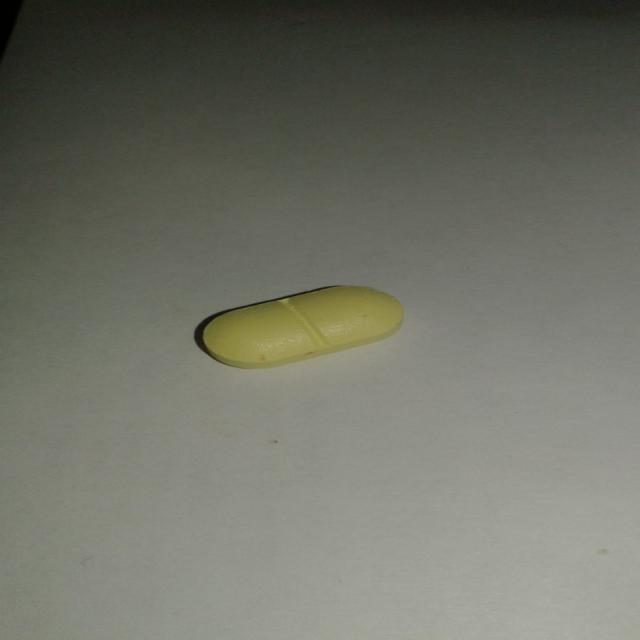pills: (185, 266, 422, 381)
